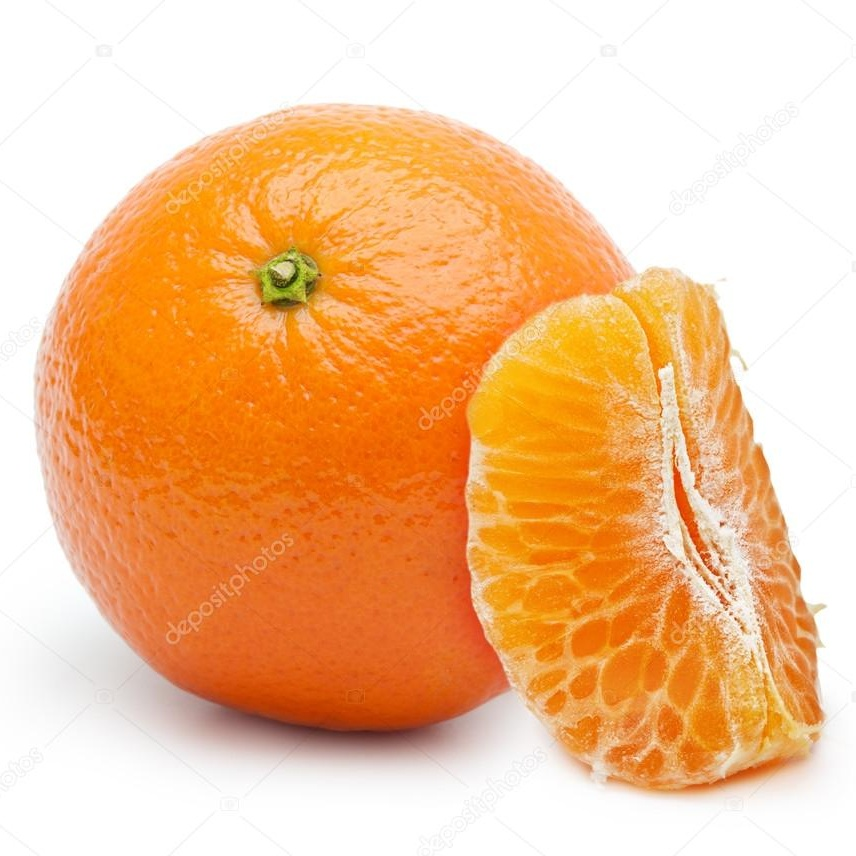mandarin: (35, 101, 645, 733), (465, 266, 856, 790)
